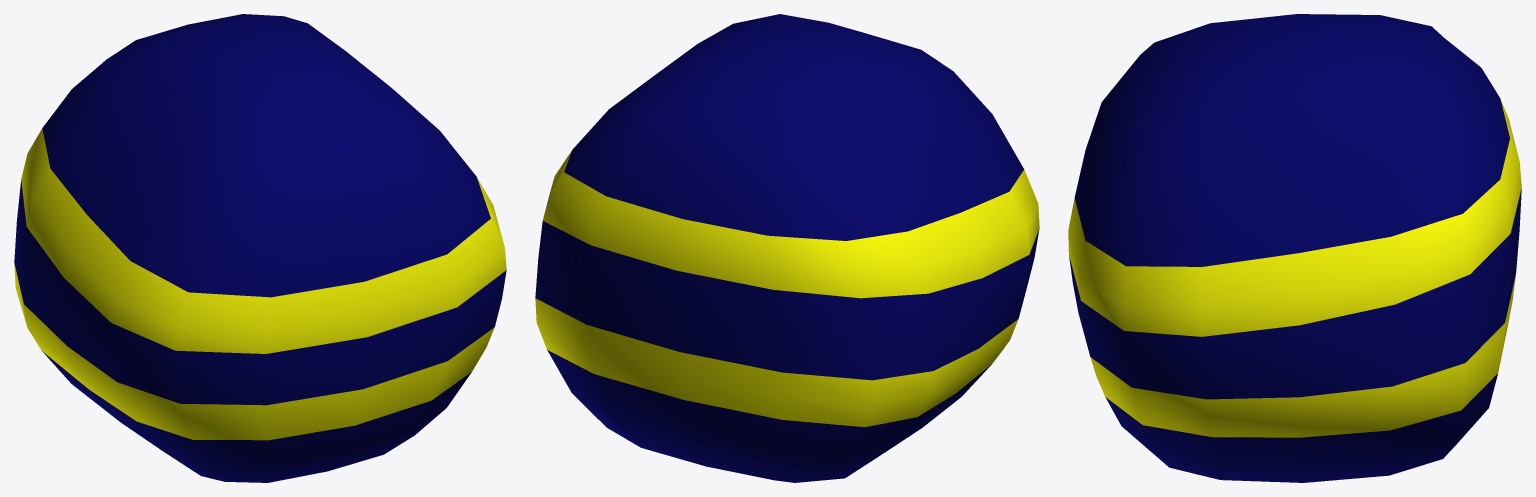
The model's file is MegaMan Ammo.fbx.
3 views of the same model, side by side, from view 1: azimuth 30°, elevation 25°; view 2: azimuth 150°, elevation 25°; view 3: azimuth 270°, elevation 25° (orthographic). The views are drawn at different scales.
Parts seen in each view (by area): view 1: Cube; view 2: Cube; view 3: Cube.
Boxes of the visible parts, box(x1,y1,x2,y2) form: Cube: box(14, 14, 506, 482); Cube: box(535, 14, 1039, 482); Cube: box(1068, 14, 1521, 482).
Size of the model in its own units: 190 by 188 by 183.
